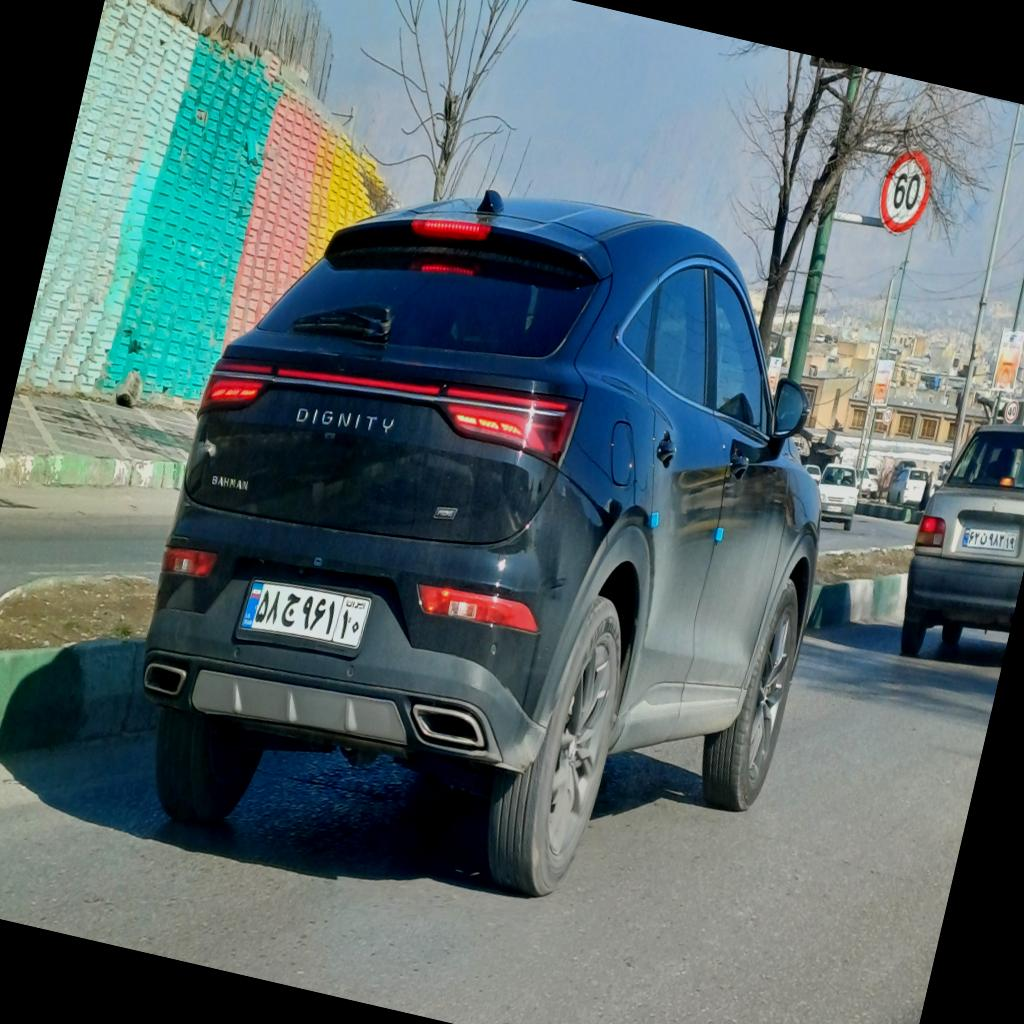Plates: (242, 570, 374, 654), (962, 522, 1020, 558)
